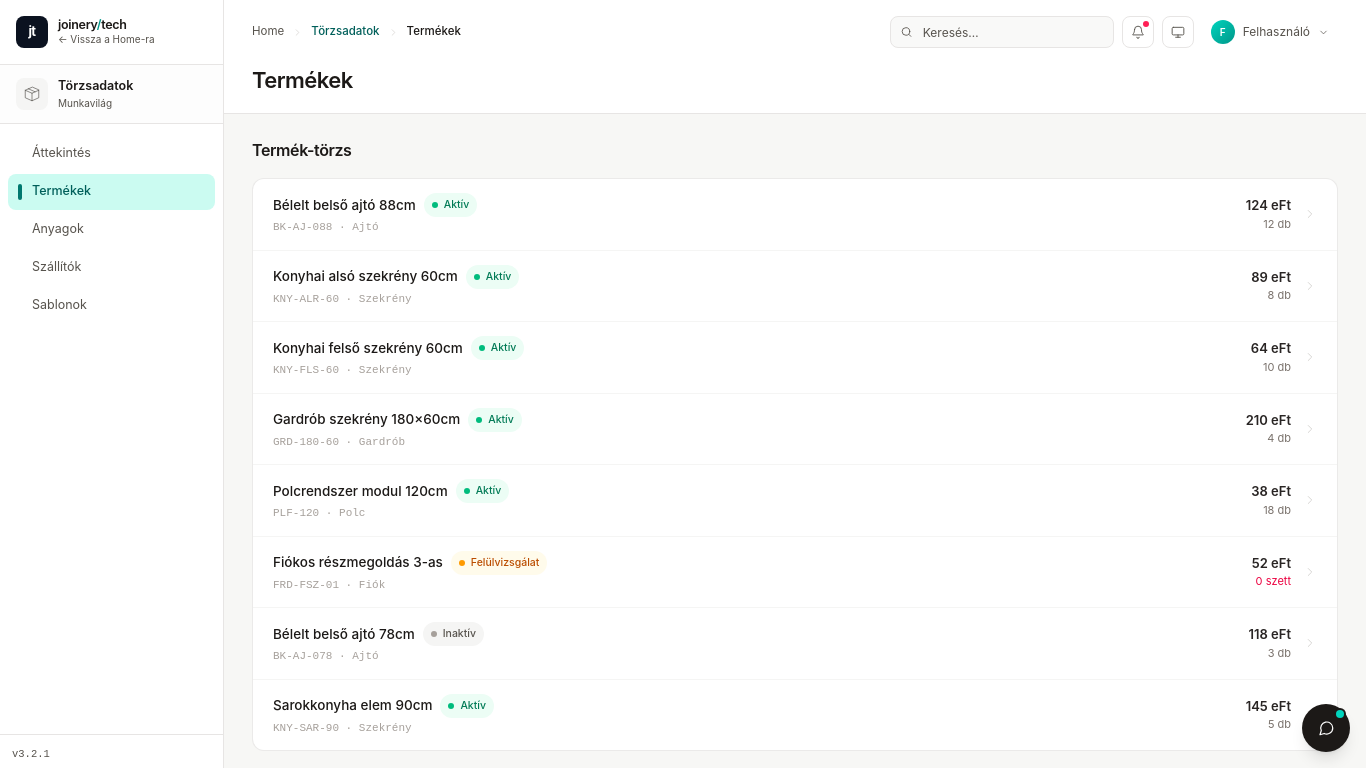
Test case: MasterdataPage › product detail shows price
Click the text "Bélelt belső ajtó 88cm": x=344, y=205 [273, 195, 416, 215]
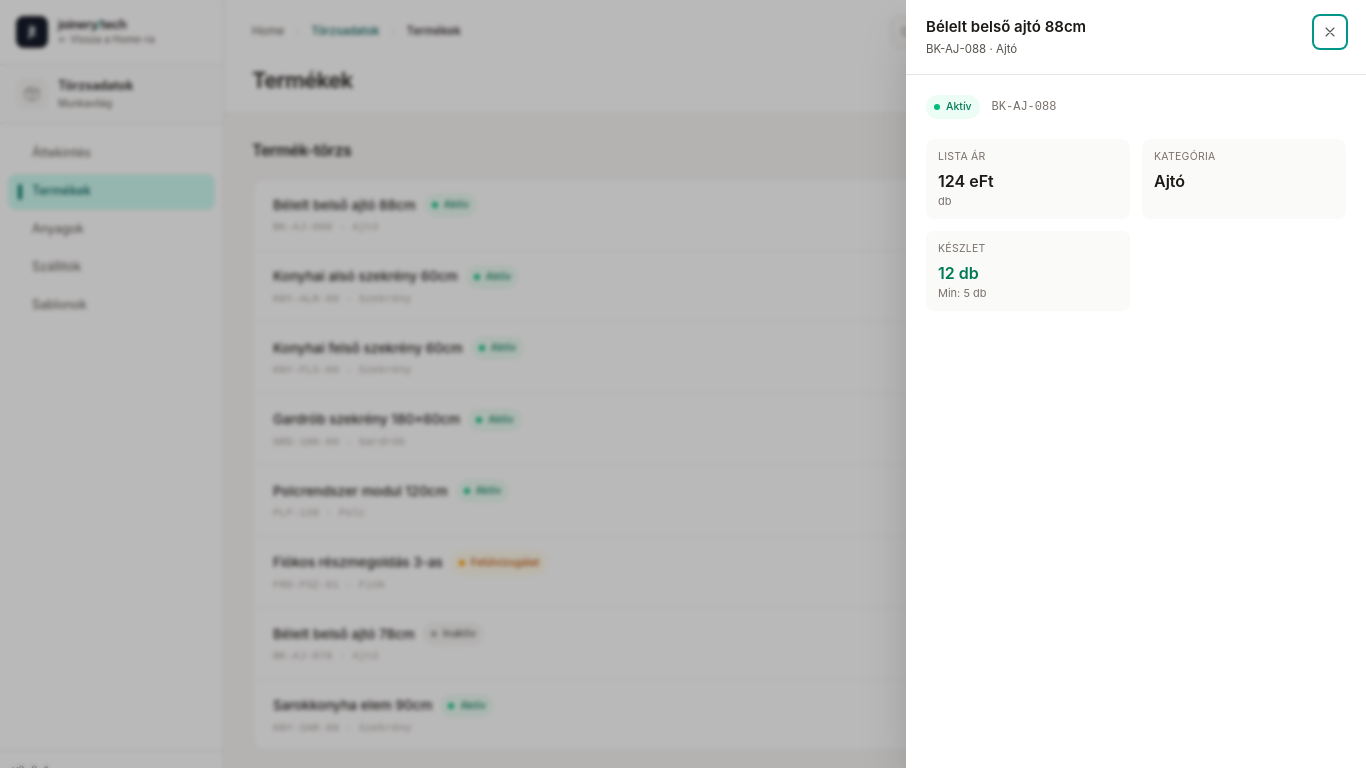
Now the text "Lista ár" is shown, box [938, 150, 986, 163]
